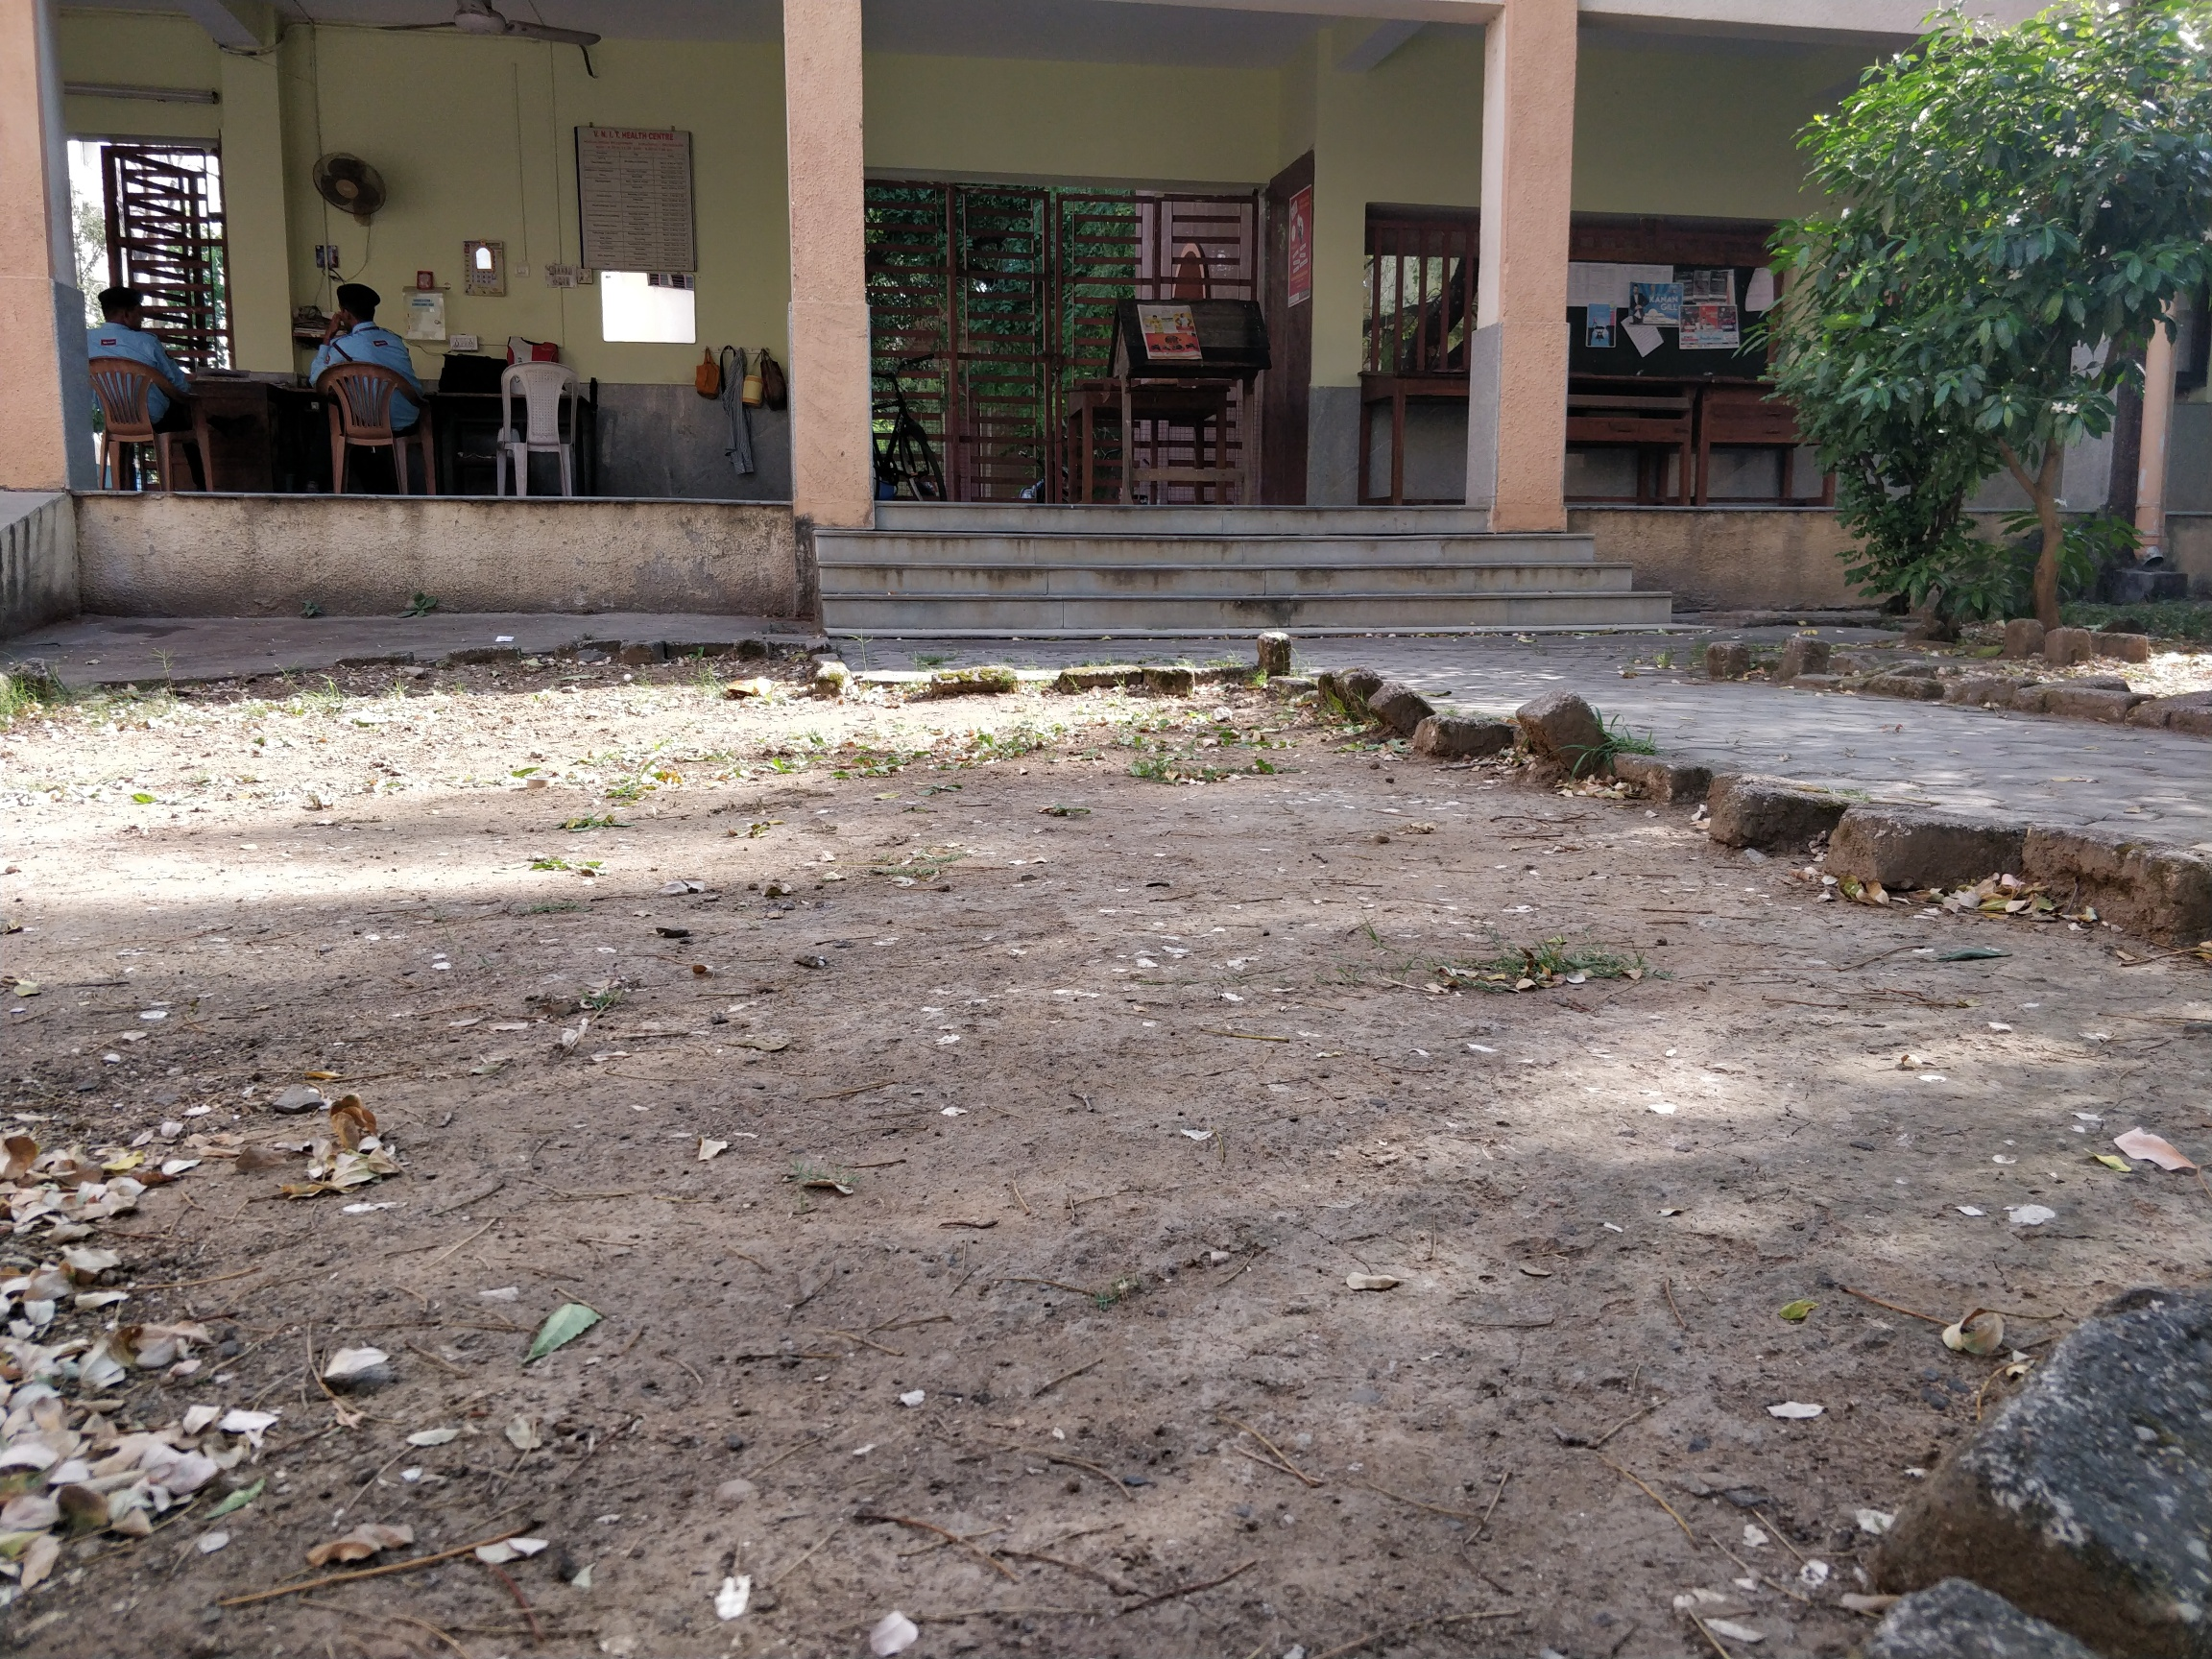stairs_up: (810, 497, 1679, 626)
